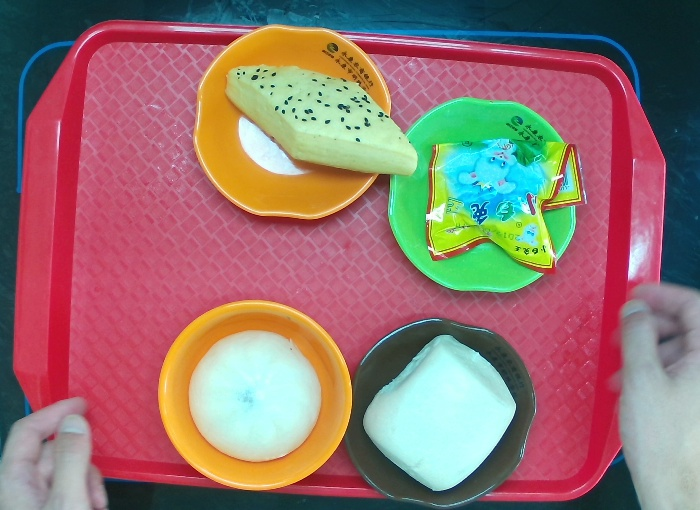YKMZ-Ju_Se_Ao_Bian_Wan: (181, 17, 400, 229)
YKMZ-Ju_Se_Yuan_Wan: (146, 280, 355, 496)
YKMZ-Ka_Fei_Ao_Bian_Wan: (341, 312, 541, 510)
YKMZ-Lv_Se_Ao_Bian_Wan: (382, 93, 587, 299)
